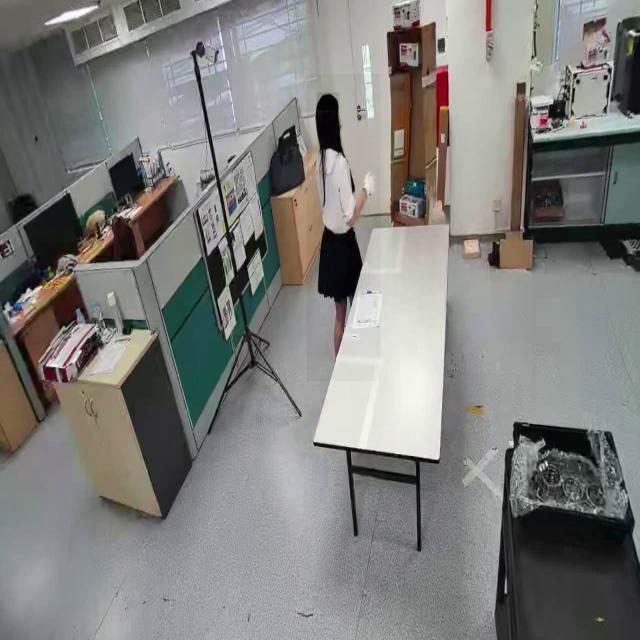hand_glove: (357, 169, 377, 205)
head_nohelmet: (316, 93, 340, 111)
person: (306, 74, 380, 382)
